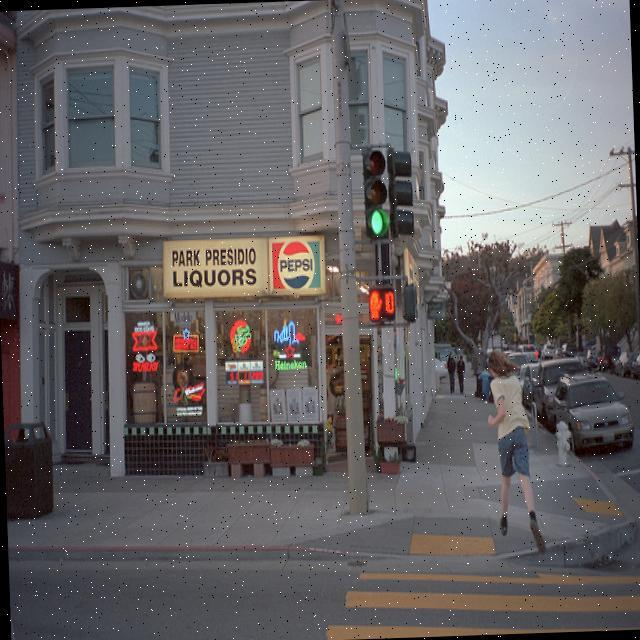fire_hydrant: (554, 419, 572, 467)
